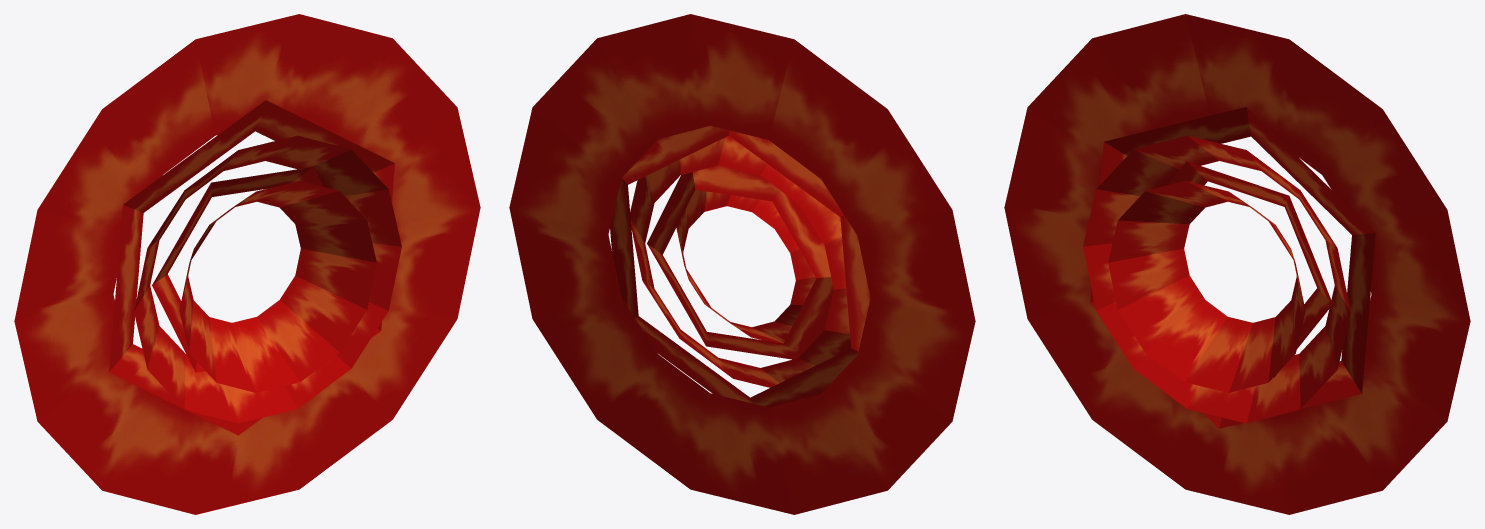
File: tx_taoist_huoyanchongji_fire.obj
3 renders of one model, left to right at view 1: azimuth 30°, elevation 25°; view 2: azimuth 150°, elevation 25°; view 3: azimuth 330°, elevation 25°, orthographic.
Parts seen in each view (by area): view 1: Cylinder06, Cylinder10, Cylinder09, Cylinder05, Cylinder04; view 2: Cylinder06, Cylinder05, Cylinder09, Cylinder04, Cylinder10; view 3: Cylinder06, Cylinder10, Cylinder09, Cylinder05, Cylinder04.
Boxes of the visible parts, bbox=[...] form: Cylinder06: bbox=[14, 14, 480, 514]; Cylinder10: bbox=[179, 181, 376, 392]; Cylinder09: bbox=[134, 135, 401, 423]; Cylinder05: bbox=[109, 100, 394, 435]; Cylinder04: bbox=[152, 167, 323, 372]; Cylinder06: bbox=[509, 14, 975, 514]; Cylinder05: bbox=[610, 126, 870, 407]; Cylinder09: bbox=[630, 135, 850, 387]; Cylinder04: bbox=[647, 165, 833, 359]; Cylinder10: bbox=[676, 190, 816, 343]; Cylinder06: bbox=[1004, 14, 1470, 514]; Cylinder10: bbox=[1108, 181, 1305, 392]; Cylinder09: bbox=[1083, 135, 1350, 423]; Cylinder05: bbox=[1090, 107, 1375, 428]; Cylinder04: bbox=[1168, 161, 1332, 378].
Bounding box in the file's own units: 220 × 214 × 27.47.
1 material, 1 textured.
